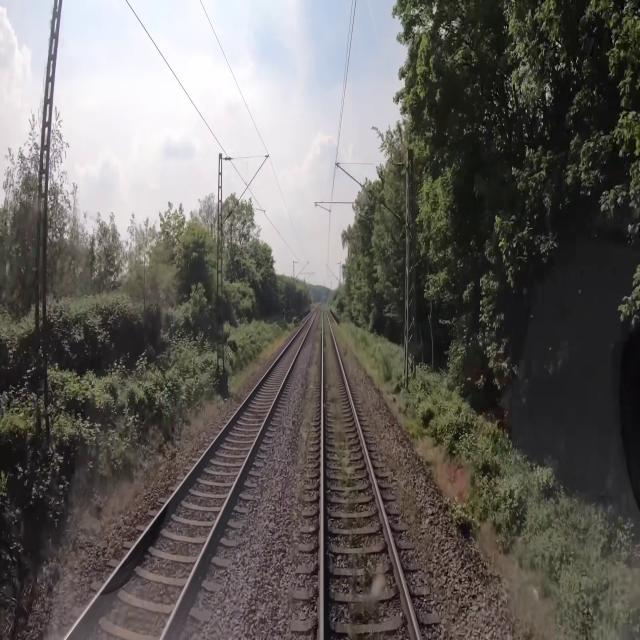Plant: (324, 329, 355, 485), (392, 472, 420, 527)
